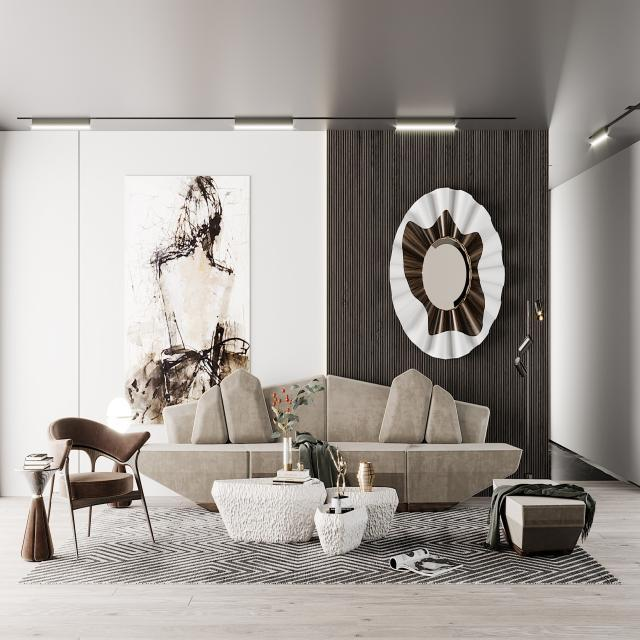sofa: (115, 369, 522, 512)
